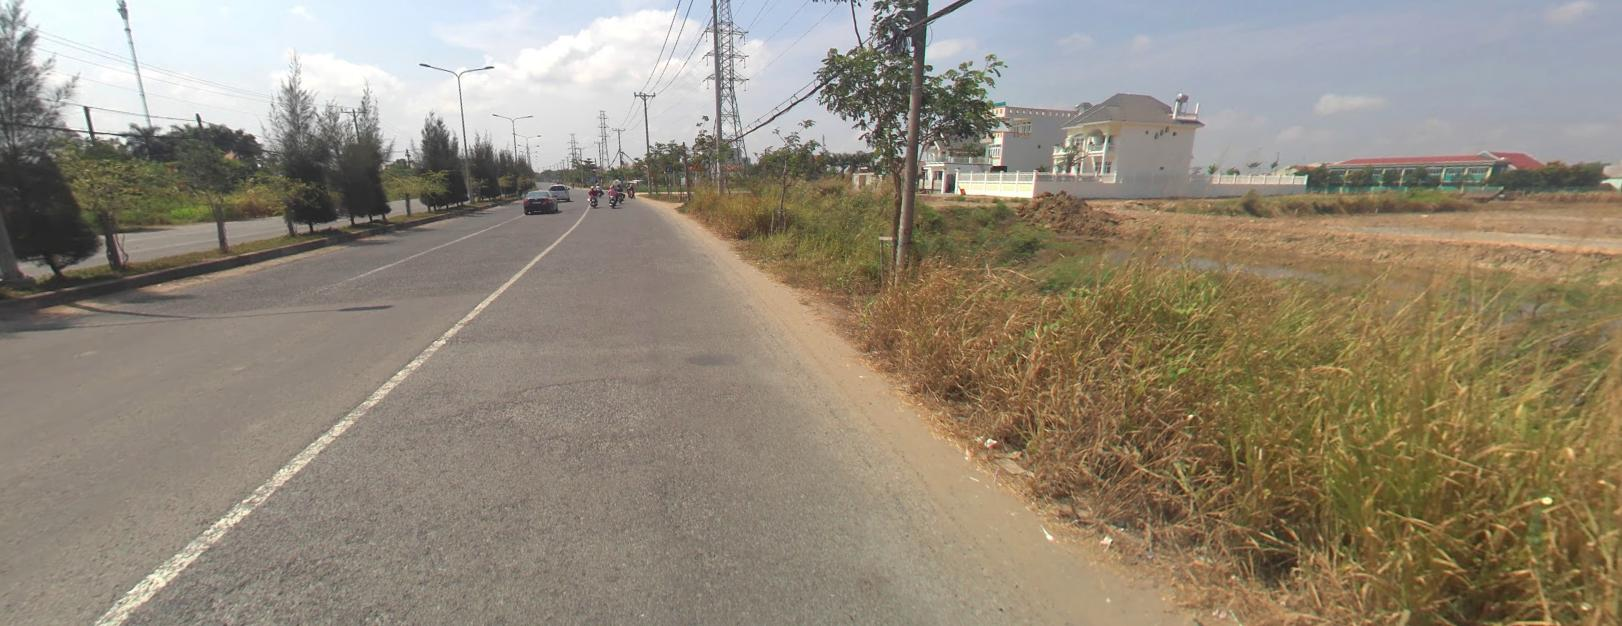Nguy hiem: (691, 159, 701, 170), (692, 160, 702, 169)
